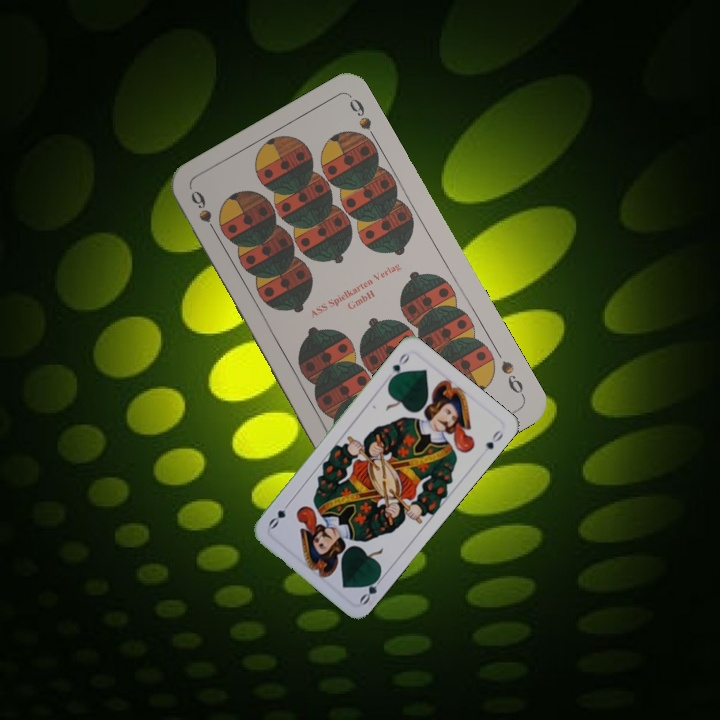GO: (356, 570, 387, 607), (385, 349, 412, 385)
S9: (186, 186, 222, 241), (496, 356, 527, 400)
